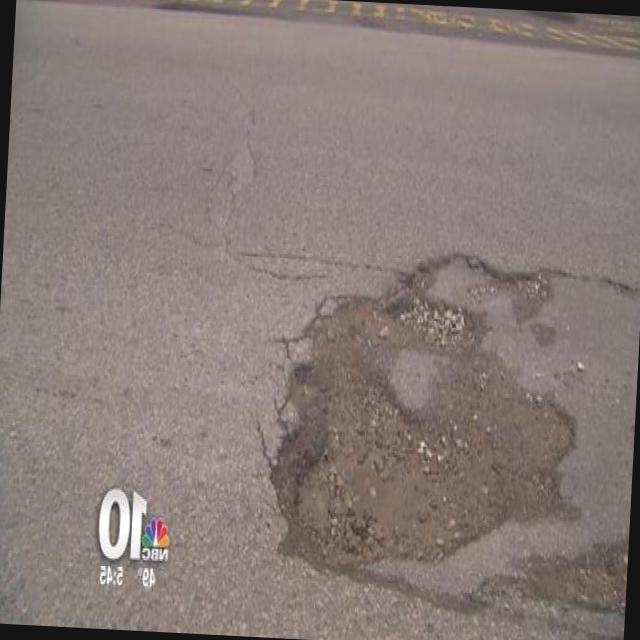bad-road: (266, 244, 593, 561), (476, 527, 628, 613)
